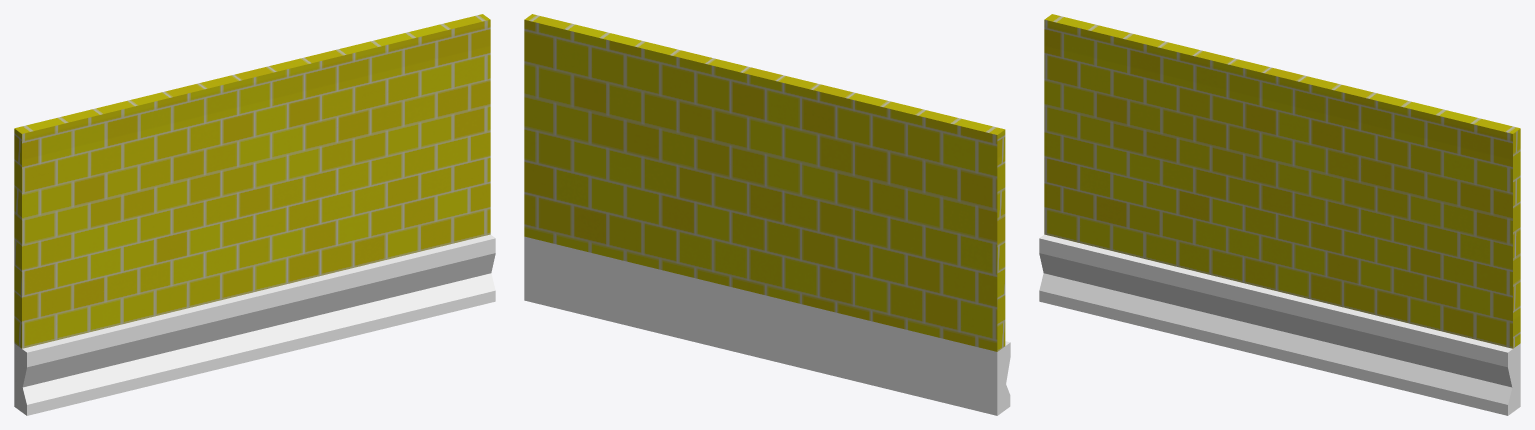
The model's file is WALL1.fbx.
The picture shows the model from 3 angles, left to right: view 1: azimuth 30°, elevation 25°; view 2: azimuth 150°, elevation 25°; view 3: azimuth 330°, elevation 25°; orthographic projection.
Visible parts, largest first — view 1: WALL1; view 2: WALL1; view 3: WALL1.
Part boxes in pixels (x1,y1,x2,y2): WALL1: (14, 14, 495, 415); WALL1: (524, 14, 1010, 415); WALL1: (1039, 14, 1520, 415).
Bounding box in the file's own units: 7519 × 4266 × 361.
